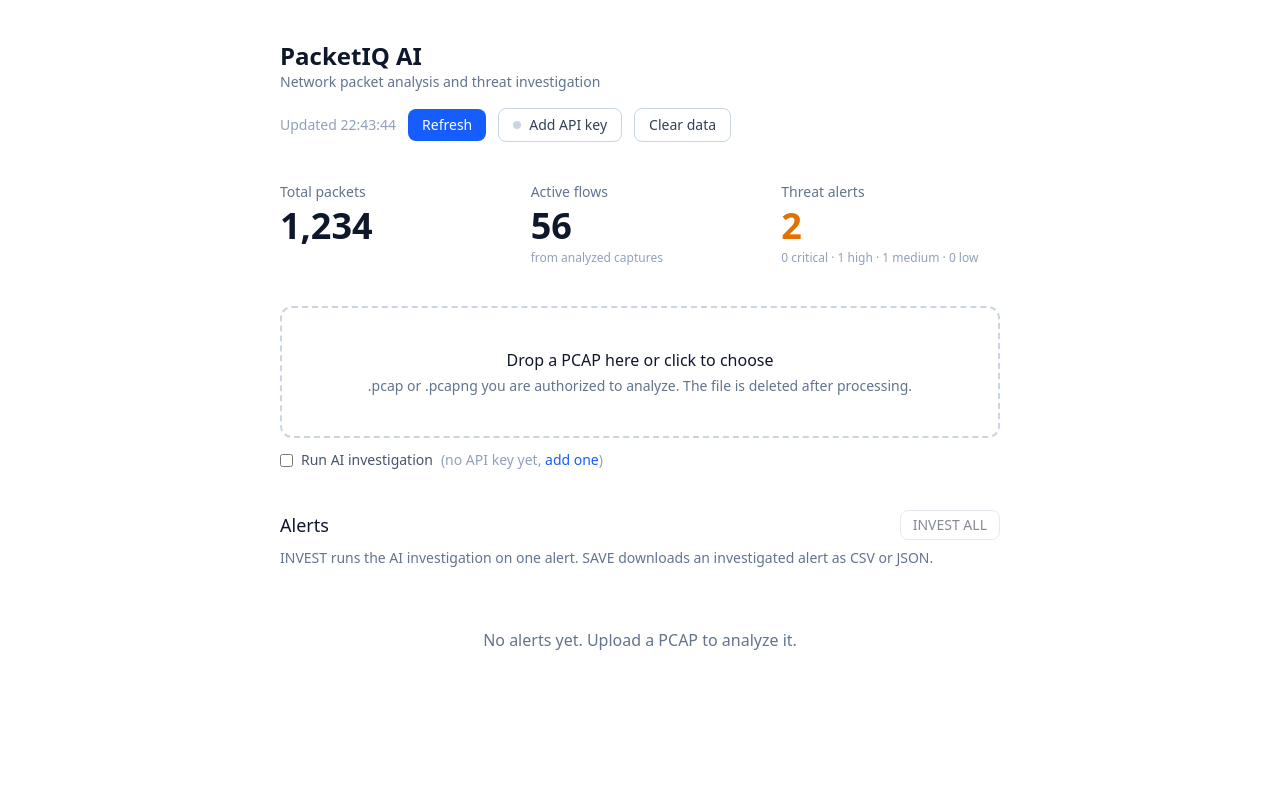
Dashboard › disables Save until a key is typed, and shows server validation errors
Click the button "Add API key" at (560, 125), box [498, 108, 622, 142]
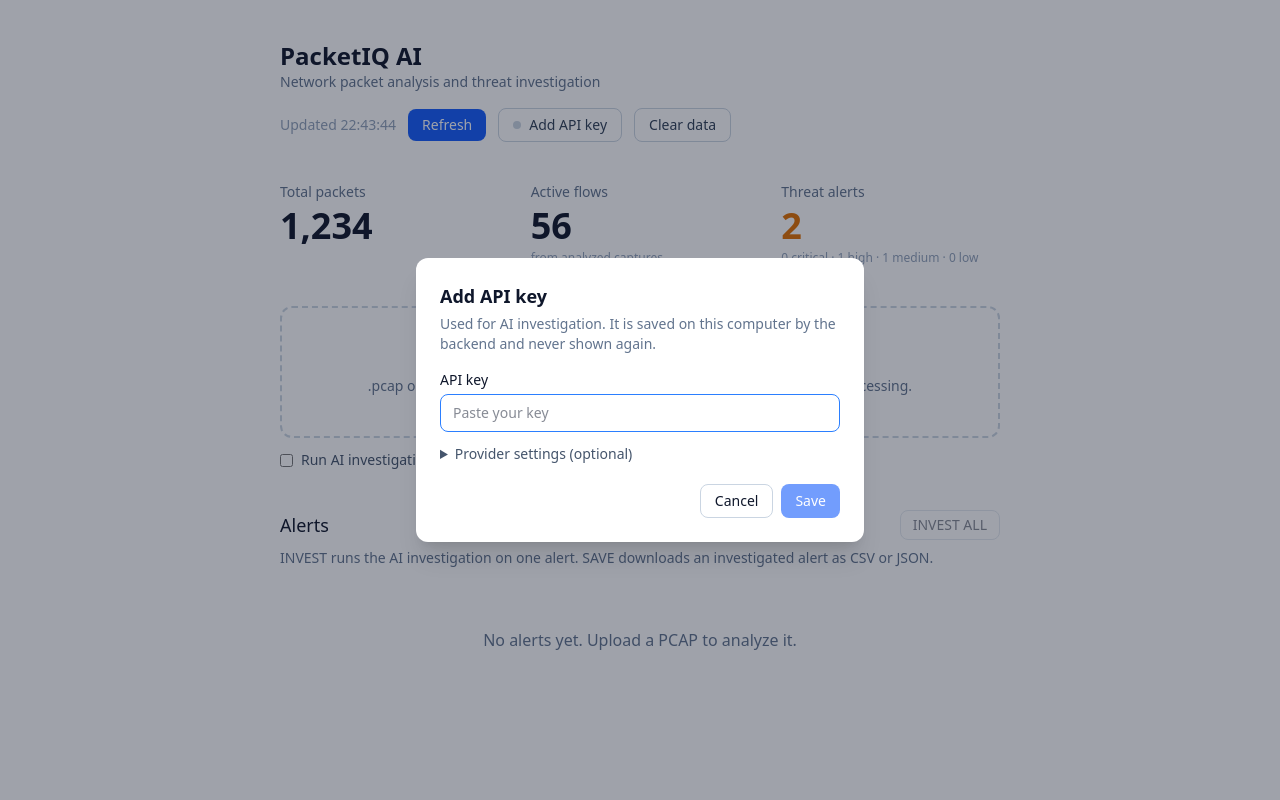
Expected: the button "Save" is disabled, [781, 484, 840, 518]
Type "has space" into the password field labelled "API key" at (640, 413), box [440, 394, 840, 432]
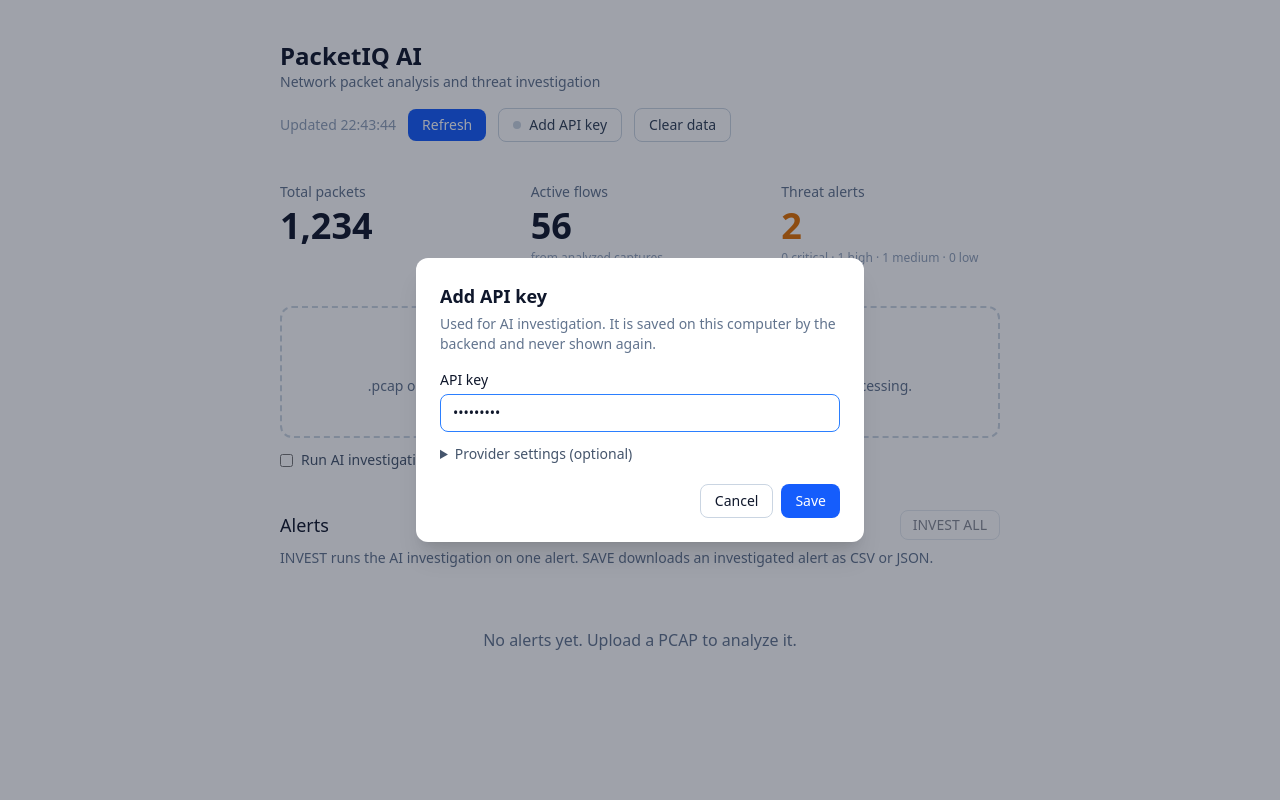
Expected: the button "Save" is enabled
Click the button "Save" at (811, 501), box [781, 484, 840, 518]
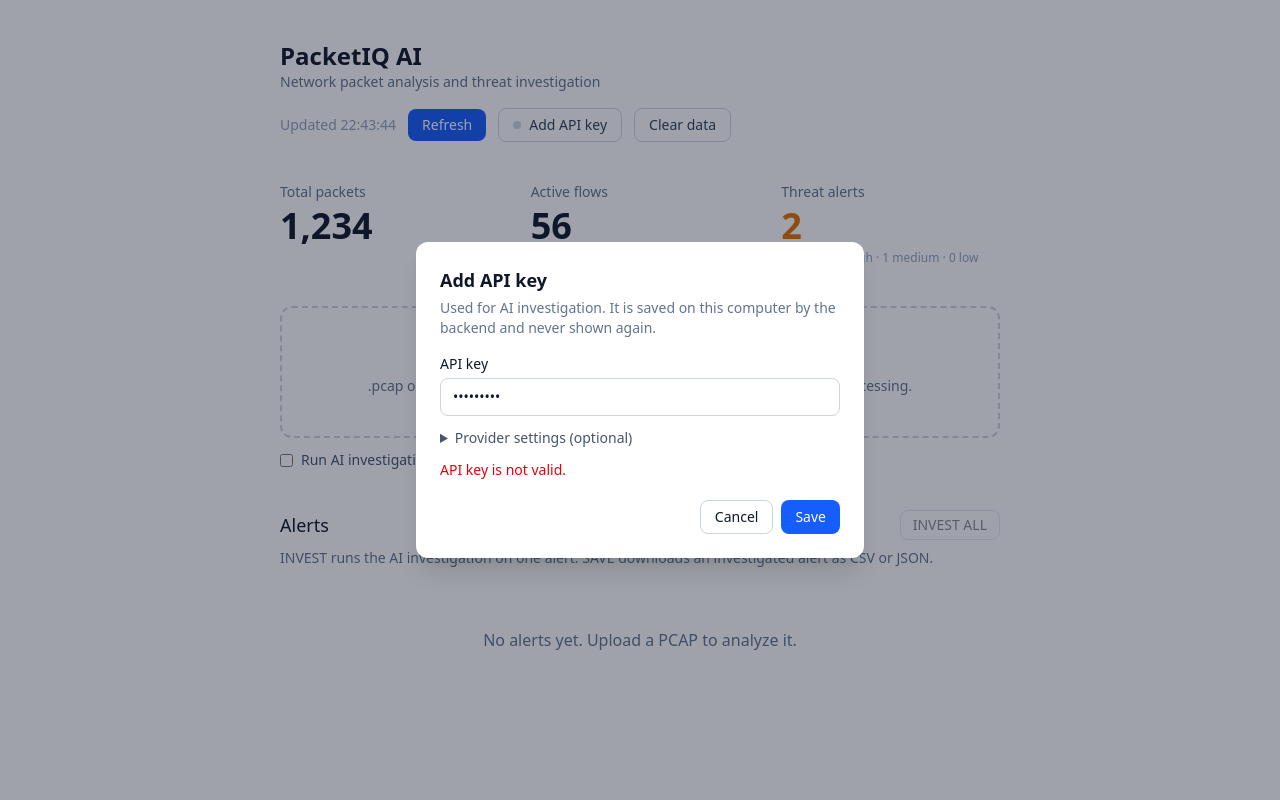
Expected: the message reads "API key is not valid.", [440, 460, 566, 479]
Press Escape
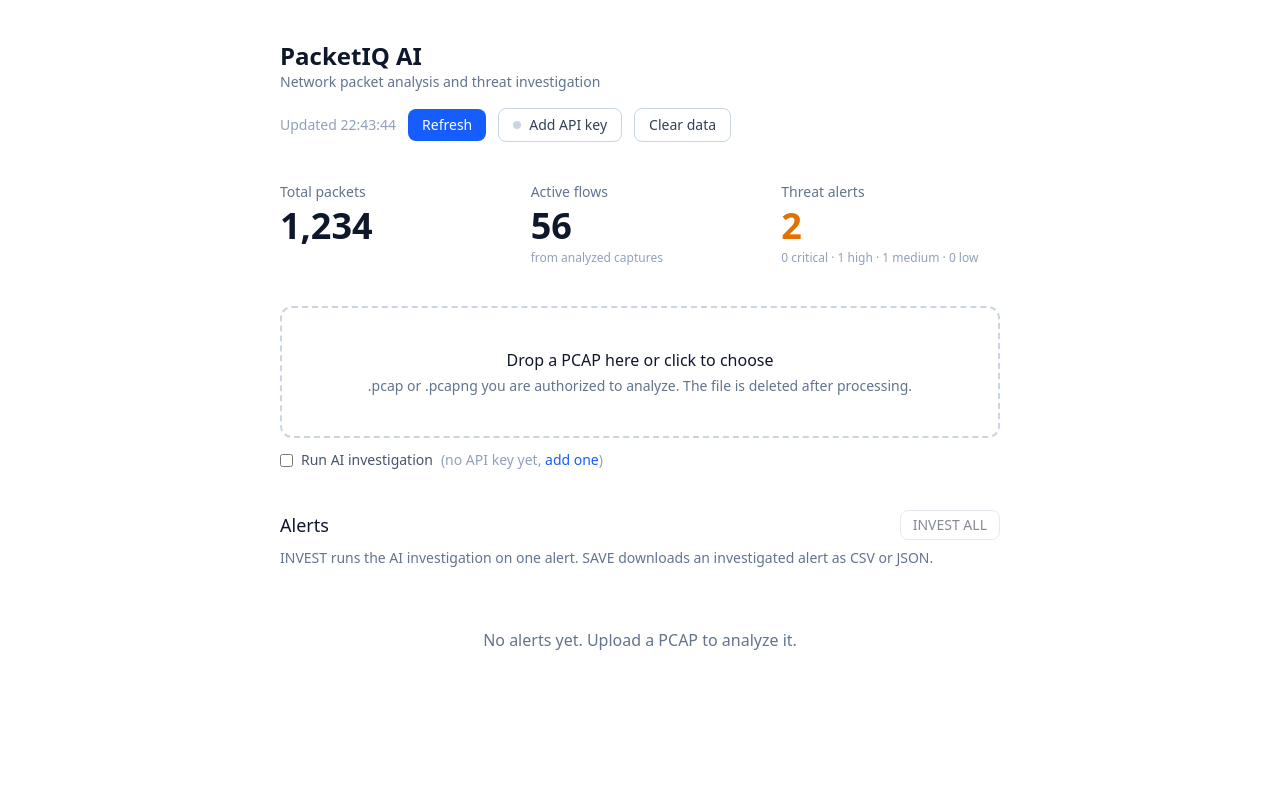
Expected: the dialog is gone
